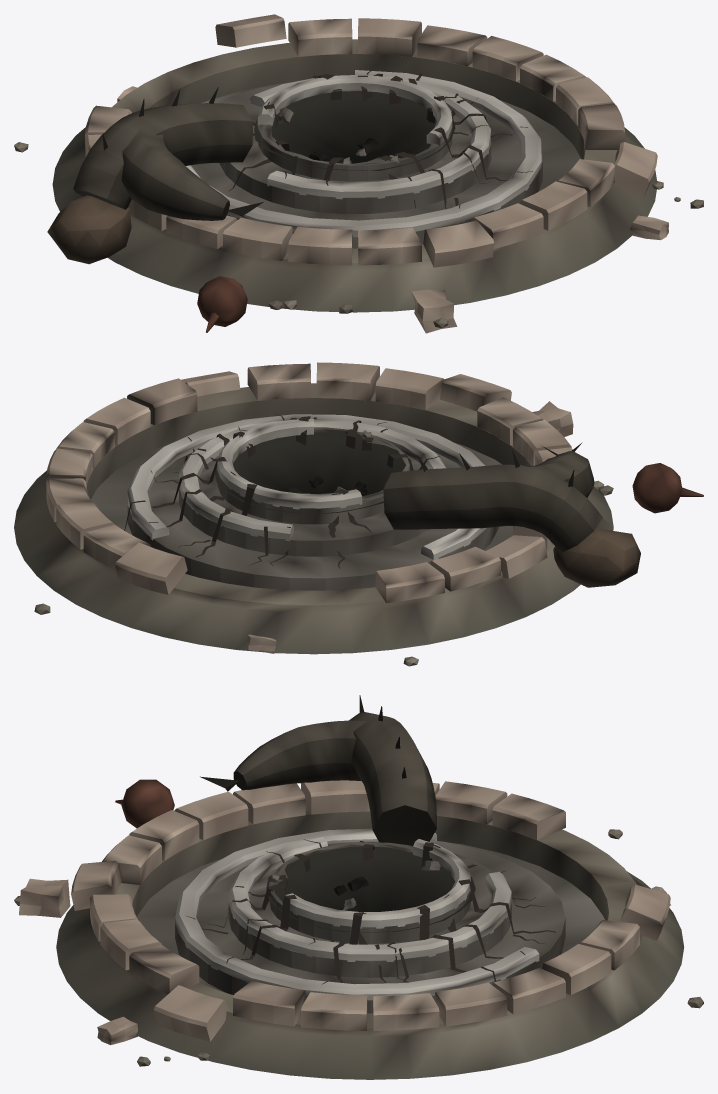
File: VerFountain01a.glb
The picture shows the model from 3 angles, top to bottom: view 1: azimuth 30°, elevation 25°; view 2: azimuth 150°, elevation 25°; view 3: azimuth 270°, elevation 25°; orthographic projection. The views are drawn at different scales.
Parts seen in each view (by area): view 1: VerFountain01a; view 2: VerFountain01a; view 3: VerFountain01a.
Part boxes in pixels (bbox=[...]): VerFountain01a: bbox=[14, 14, 703, 333]; VerFountain01a: bbox=[14, 362, 703, 666]; VerFountain01a: bbox=[14, 695, 703, 1079].
Bounding box in the file's own units: 8.97 × 2.07 × 9.01.
